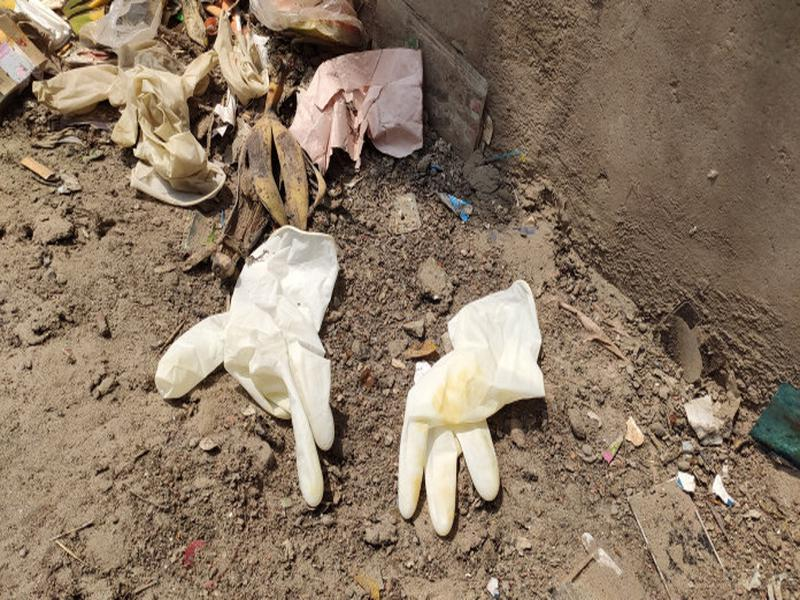gloves: (147, 222, 358, 507), (388, 274, 550, 541), (33, 31, 229, 205)
